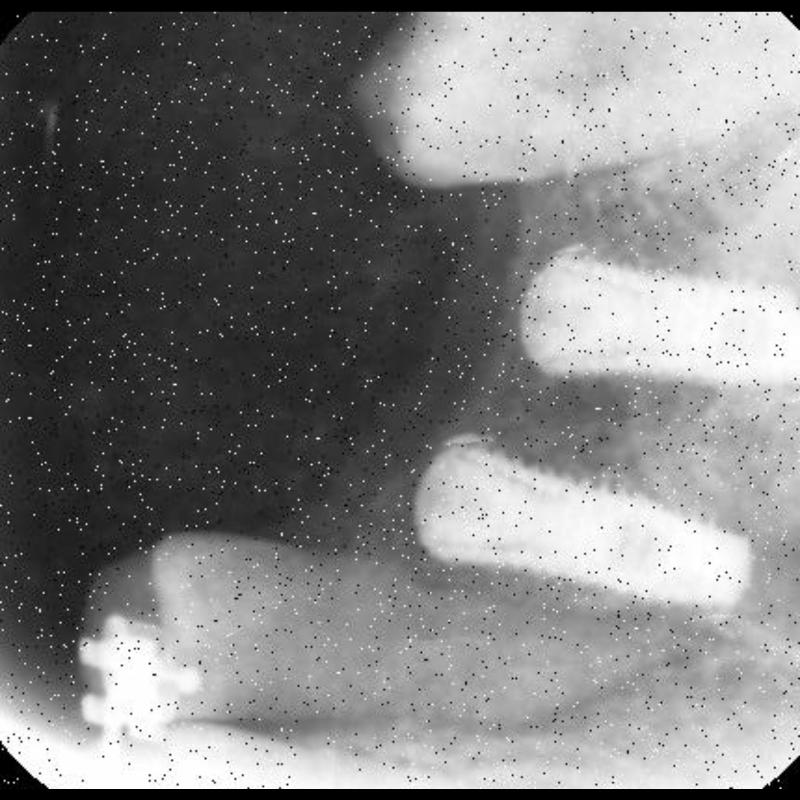Dentium: (404, 426, 757, 632), (508, 235, 800, 424)
